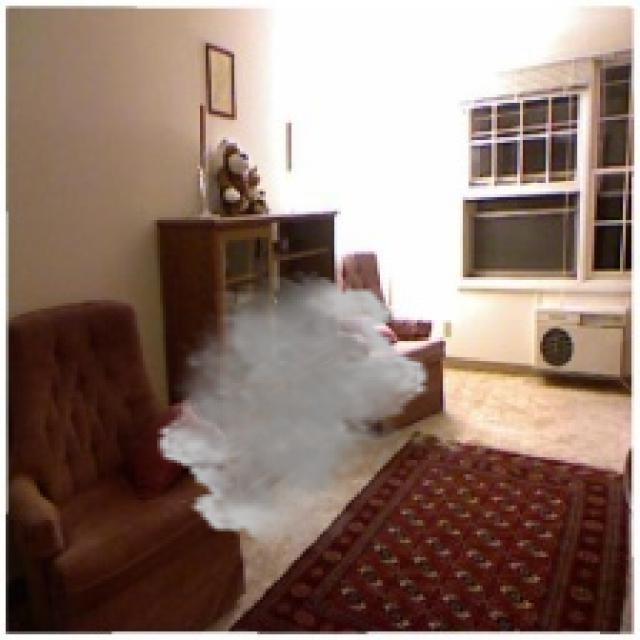smoke: (154, 272, 432, 548)
